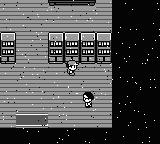main: (66, 60, 79, 76)
no-caminable: (0, 0, 159, 143), (50, 33, 110, 63), (0, 33, 15, 64), (48, 0, 96, 6)
npc: (82, 92, 94, 108)
puerta: (12, 110, 52, 128)
